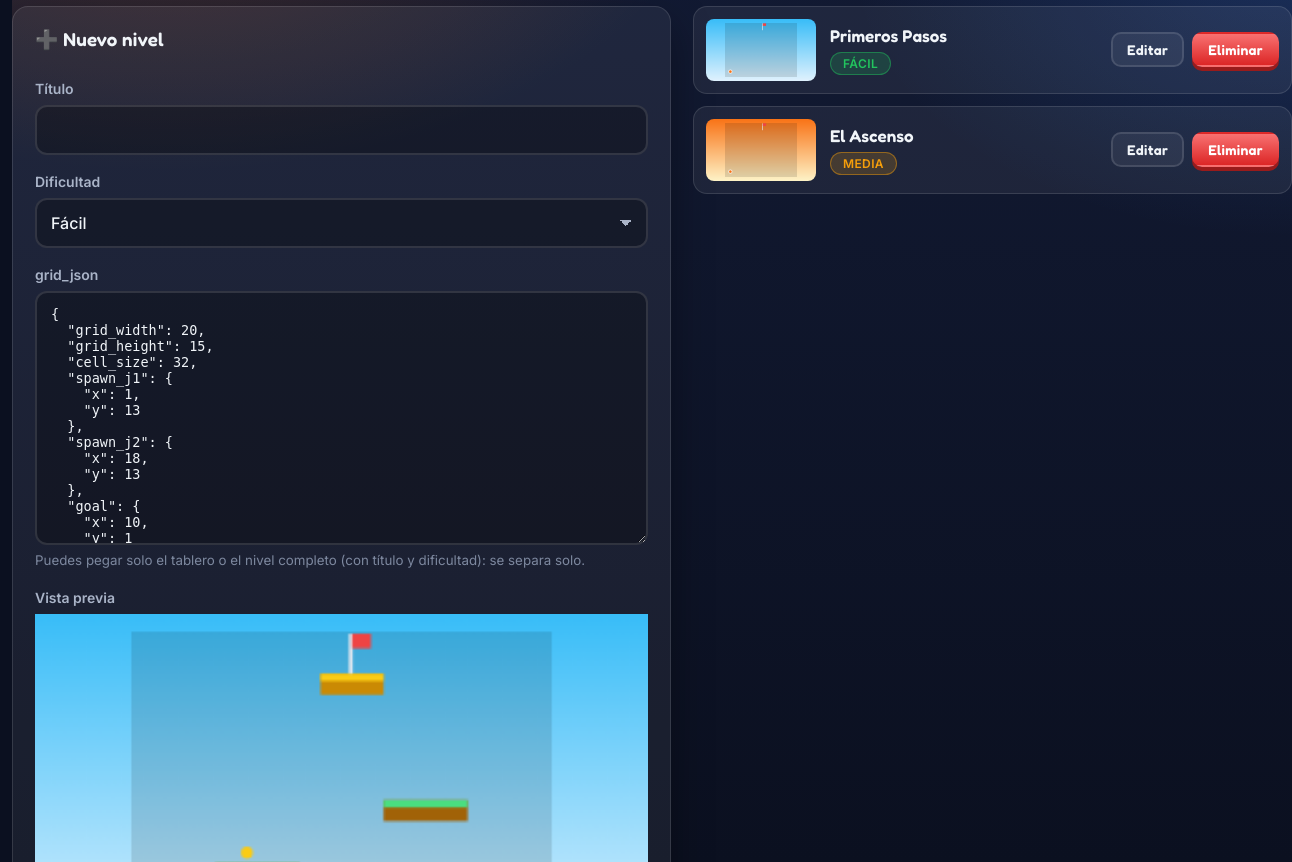
Test: LevelsAdminPanel › crea un nivel nuevo con la plantilla y recarga la lista
This screenshot has width=1292, height=862.
Expected: the text "Primeros Pasos" is shown, 830,25 -> 947,46
Type "Mi nivel" into the field labelled "Título".
click(341, 130); type("Mi nivel")  # box 35,105 -> 648,155
(page scrolled)
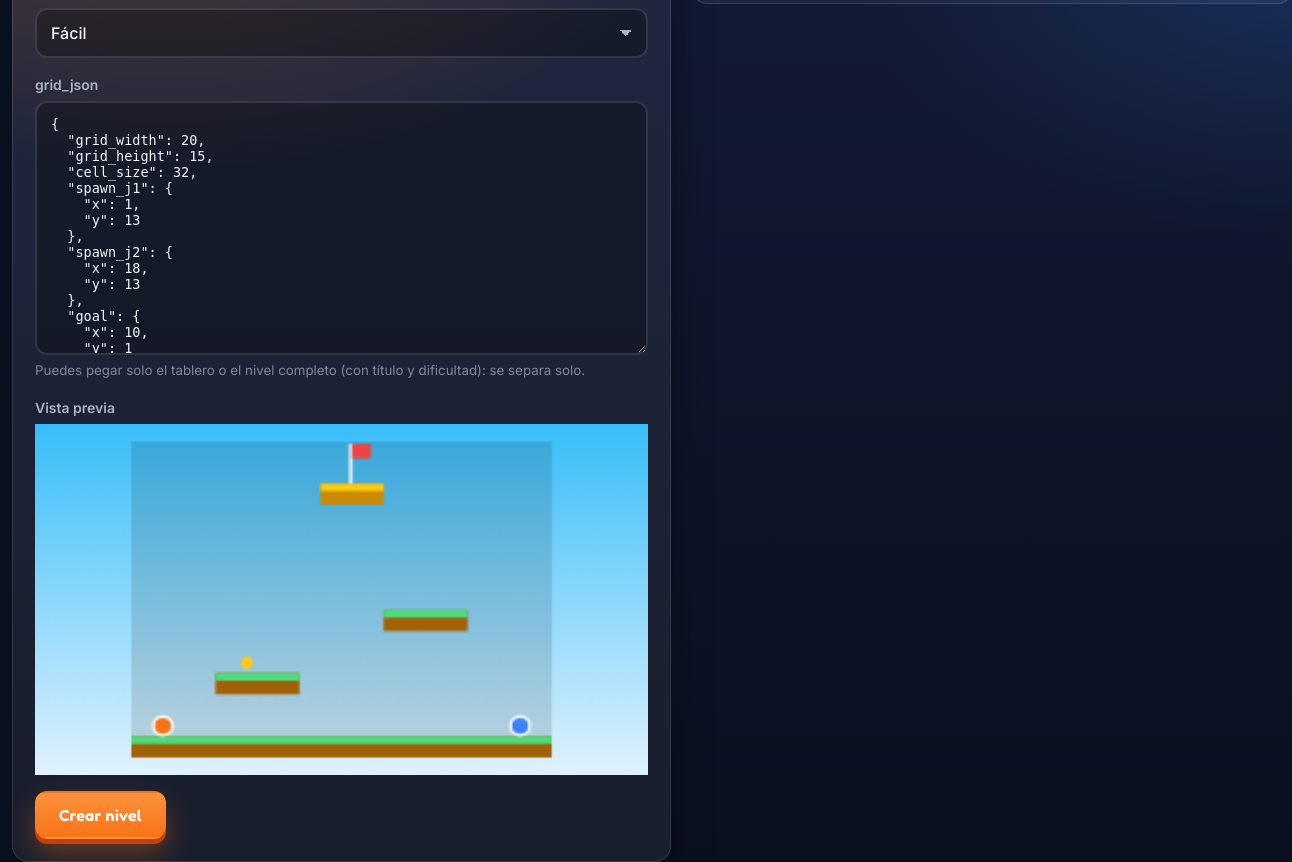
Click the button "Crear nivel".
click(100, 815)  # box 35,791 -> 166,839
(page scrolled)
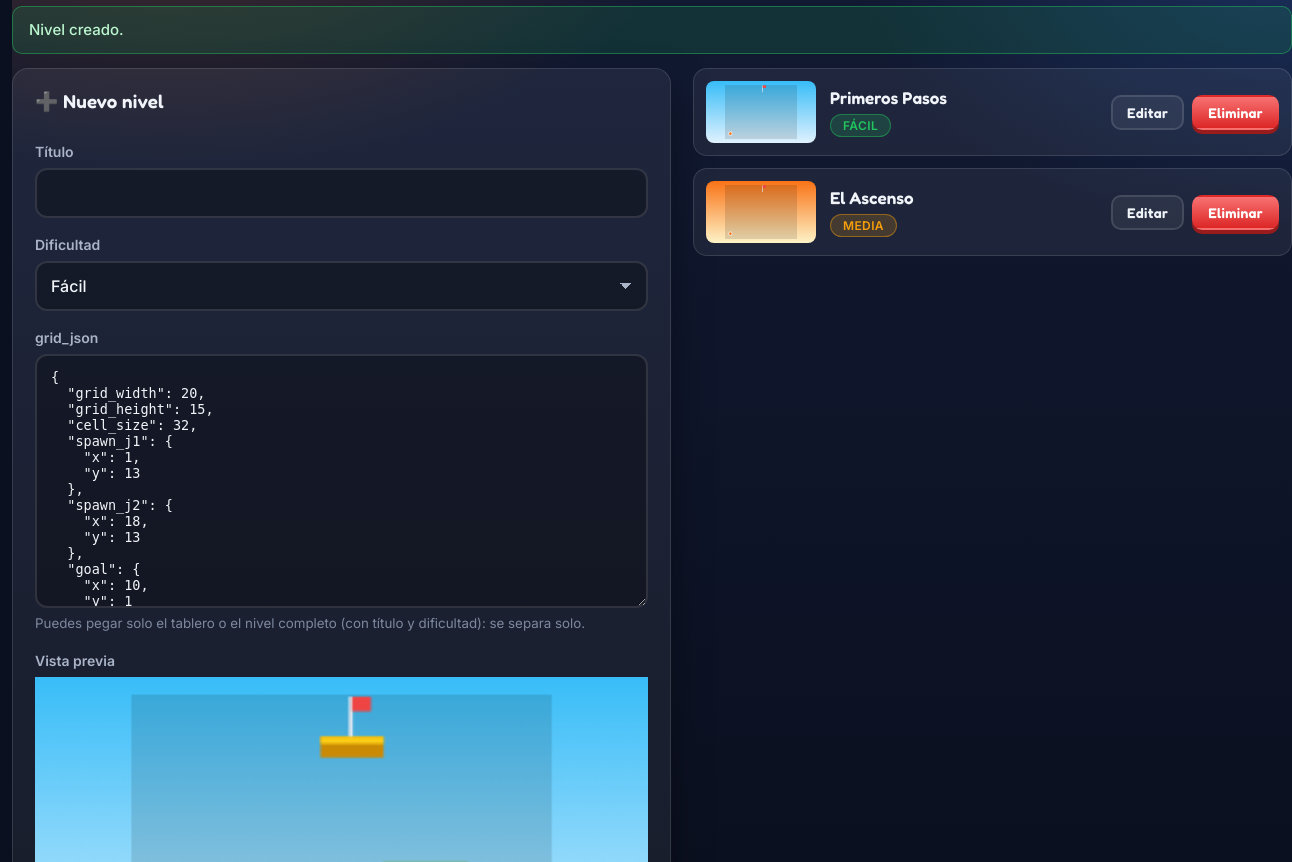
Result: the message reads "Nivel creado." at 29,20 -> 124,39
